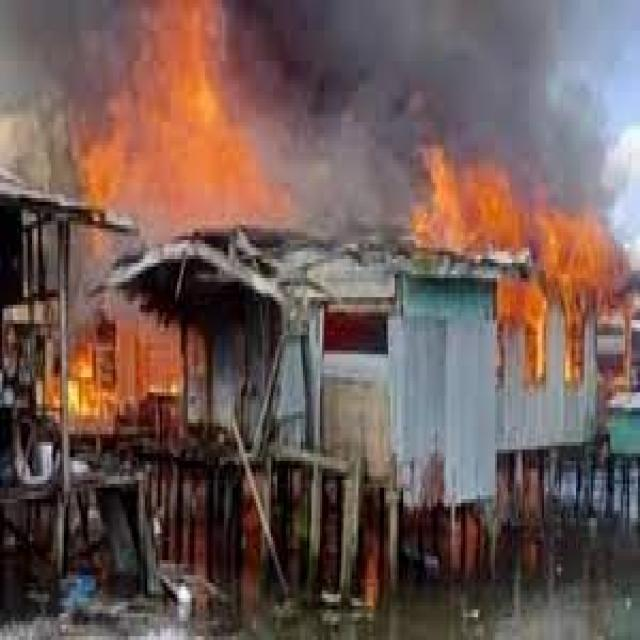Fire: (98, 0, 300, 221), (426, 148, 610, 372), (70, 338, 184, 427)
Smoke: (259, 0, 640, 230), (0, 2, 96, 204)
